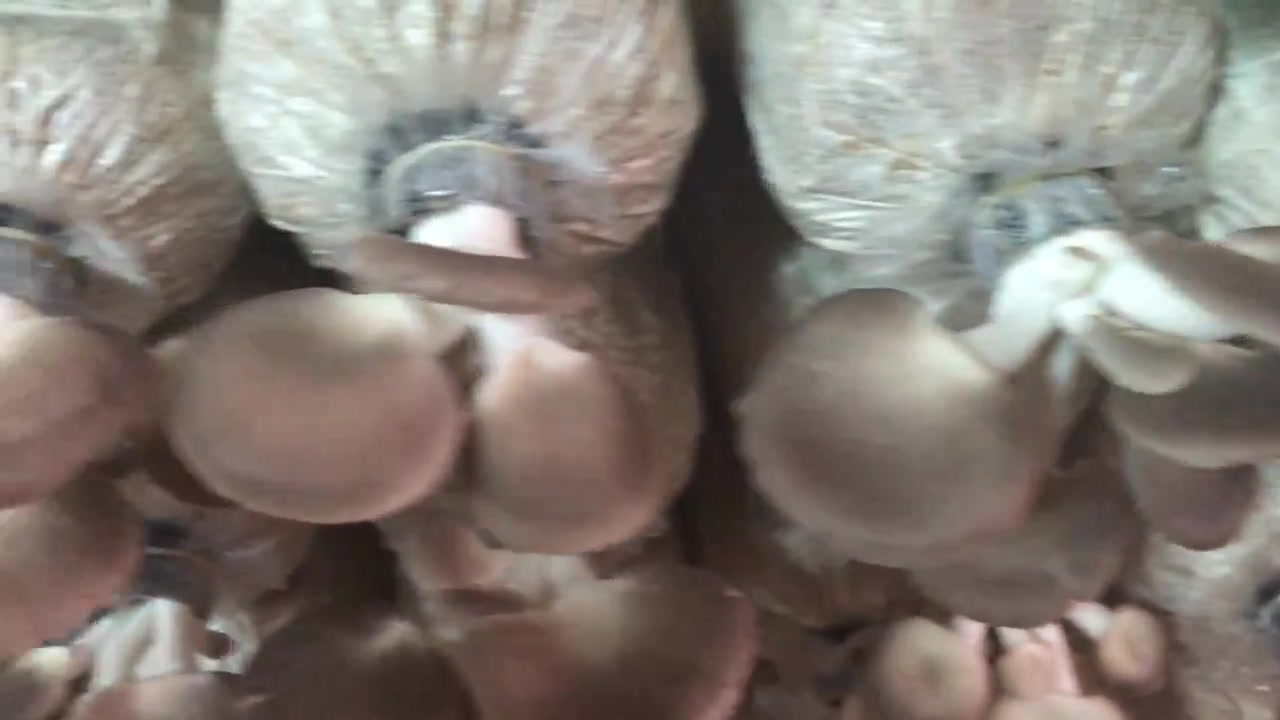nam: (739, 173, 1280, 623), (170, 132, 668, 553), (252, 556, 755, 717), (1, 521, 252, 720), (1, 223, 168, 509), (873, 602, 1167, 712)
